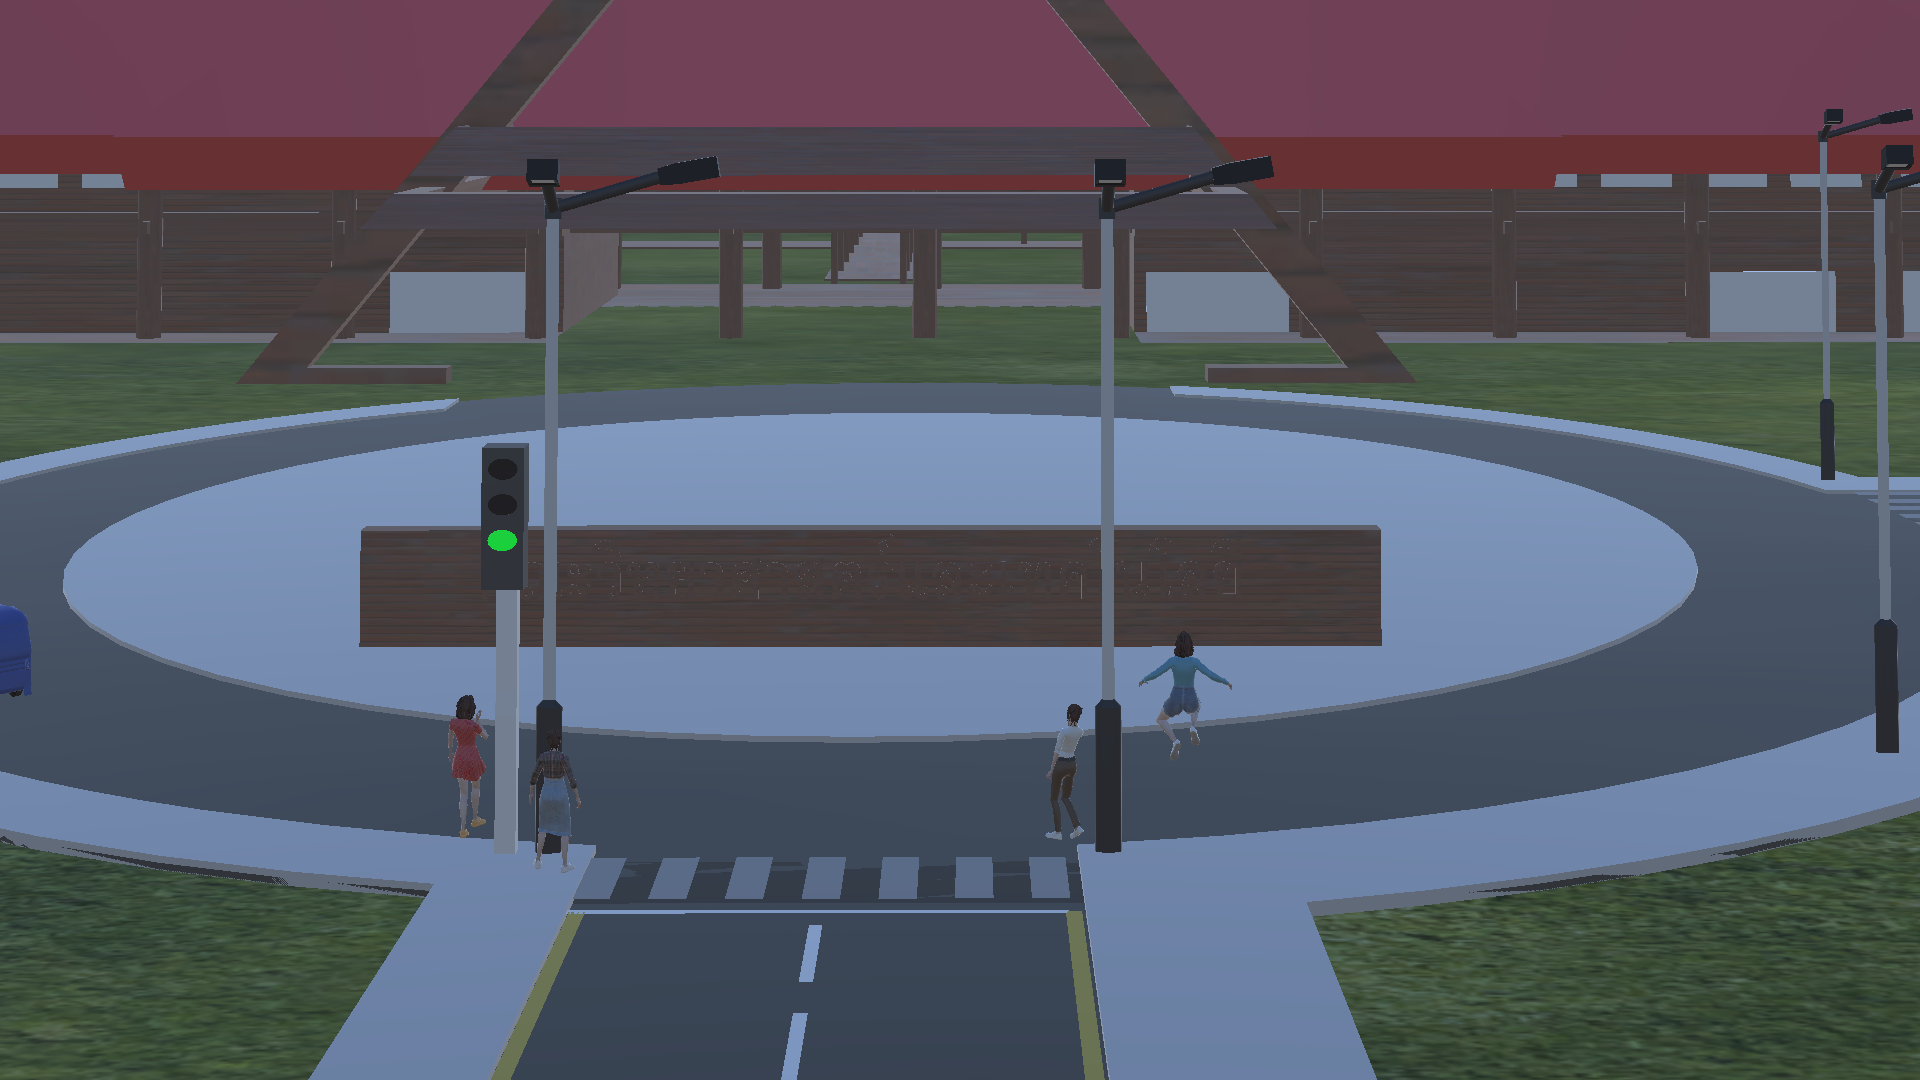pedestrian: (1135, 630, 1236, 765), (1034, 698, 1093, 849), (438, 691, 498, 839), (529, 735, 581, 873)
